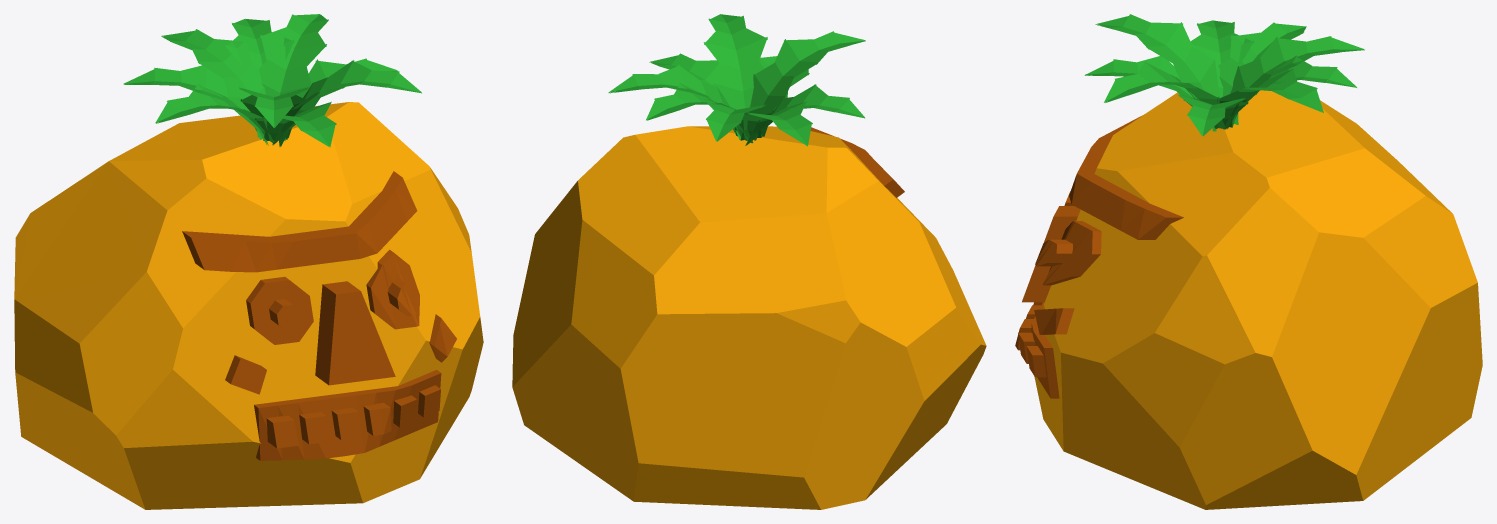
File: TikiBoulder.fbx
3 views of the same model, side by side, from view 1: azimuth 30°, elevation 25°; view 2: azimuth 150°, elevation 25°; view 3: azimuth 270°, elevation 25° (orthographic). The views are drawn at different scales.
Visible parts, largest first — view 1: TikiBoulder, TikiBoulder_Face, TikiBoulder_Palm; view 2: TikiBoulder, TikiBoulder_Palm, TikiBoulder_Face; view 3: TikiBoulder, TikiBoulder_Palm, TikiBoulder_Face.
Part boxes in pixels (left/top/right/bottom): TikiBoulder: left=14, top=102, right=483, bottom=509; TikiBoulder_Face: left=182, top=171, right=456, bottom=460; TikiBoulder_Palm: left=123, top=14, right=421, bottom=147; TikiBoulder: left=512, top=126, right=986, bottom=509; TikiBoulder_Palm: left=608, top=14, right=865, bottom=146; TikiBoulder_Face: left=810, top=127, right=904, bottom=197; TikiBoulder: left=1034, top=90, right=1482, bottom=509; TikiBoulder_Palm: left=1084, top=14, right=1364, bottom=136; TikiBoulder_Face: left=1015, top=115, right=1183, bottom=398.
Bounding box in the file's own units: 20.79 × 17.56 × 19.87.
